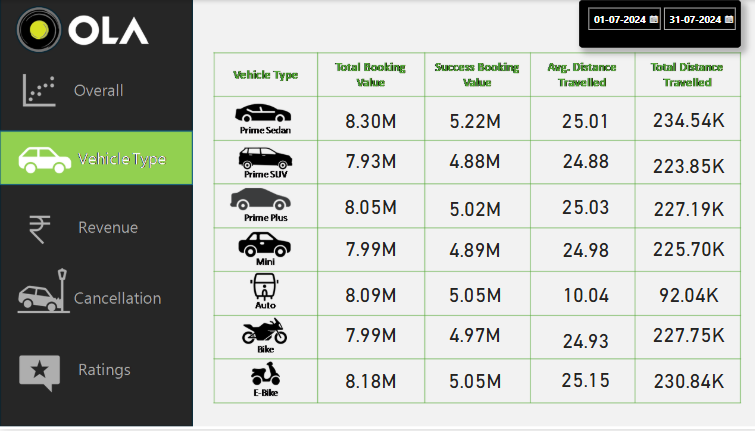

This screenshot's page, from the dashboard's own definition file:
{"tool":"powerbi","page":{"name":"Service Type","canvas":[1280,720],"ordinal":1},"visuals":[{"type":"actionButton","box":[0,108,325.4,90.7],"z":0},{"type":"actionButton","box":[0,335.5,325.4,93.6],"z":1000},{"type":"actionButton","box":[0,447.8,325.4,93.6],"z":2000},{"type":"actionButton","box":[0,576,325.4,93.6],"z":3000},{"type":"card","fields":{"Values":["Sum(July.Booking_Value)"]},"box":[536.2,166.7,173.9,66.7],"z":4000},{"type":"card","fields":{"Values":["Sum(July.Booking_Value)"]},"box":[536.2,233.3,173.9,66.7],"z":5000},{"type":"card","fields":{"Values":["Sum(July.Booking_Value)"]},"box":[536.2,381.2,173.9,66.7],"z":6000},{"type":"card","fields":{"Values":["Sum(July.Booking_Value)"]},"box":[536.2,459.4,173.9,66.7],"z":7000},{"type":"card","fields":{"Values":["Sum(July.Booking_Value)"]},"box":[536.2,526.1,173.9,66.7],"z":8000},{"type":"card","fields":{"Values":["Sum(July.Booking_Value)"]},"box":[536.2,602.9,173.9,66.7],"z":9000},{"type":"card","fields":{"Values":["Sum(July.Booking_Value)"]},"box":[536.2,310.1,173.9,66.7],"z":10000},{"type":"card","fields":{"Values":["Sum(July.Booking_Value)"]},"box":[710.1,166.7,173.9,66.7],"z":11000},{"type":"card","fields":{"Values":["Sum(July.Booking_Value)"]},"box":[710.1,233.3,173.9,66.7],"z":12000},{"type":"card","fields":{"Values":["Sum(July.Booking_Value)"]},"box":[710.1,314.5,173.9,66.7],"z":13000},{"type":"card","fields":{"Values":["Sum(July.Booking_Value)"]},"box":[710.1,382.6,173.9,66.7],"z":14000},{"type":"card","fields":{"Values":["Sum(July.Booking_Value)"]},"box":[710.1,459.4,173.9,66.7],"z":15000},{"type":"card","fields":{"Values":["Sum(July.Booking_Value)"]},"box":[710.1,526.1,173.9,66.7],"z":16000},{"type":"card","fields":{"Values":["Sum(July.Booking_Value)"]},"box":[709.8,604.9,173.8,65.6],"z":17000},{"type":"card","fields":{"Values":["Avg(July.Ride_Distance)"]},"box":[897.1,166.7,173.9,66.7],"z":18000},{"type":"card","fields":{"Values":["Avg(July.Ride_Distance)"]},"box":[897.1,233.3,173.9,66.7],"z":19000},{"type":"card","fields":{"Values":["Avg(July.Ride_Distance)"]},"box":[897.1,310.1,173.9,66.7],"z":20000},{"type":"card","fields":{"Values":["Avg(July.Ride_Distance)"]},"box":[897.1,382.6,173.9,66.7],"z":21000},{"type":"card","fields":{"Values":["Avg(July.Ride_Distance)"]},"box":[897.1,459.4,173.9,66.7],"z":22000},{"type":"card","fields":{"Values":["Avg(July.Ride_Distance)"]},"box":[896.7,536.1,173.8,67.2],"z":23000},{"type":"card","fields":{"Values":["Avg(July.Ride_Distance)"]},"box":[896.7,603.3,173.8,65.6],"z":24000},{"type":"card","fields":{"Values":["Sum(July.Ride_Distance)"]},"box":[1070.5,165.6,173.8,65.6],"z":25000},{"type":"card","fields":{"Values":["Sum(July.Ride_Distance)"]},"box":[1070.5,242.6,173.8,67.2],"z":26000},{"type":"card","fields":{"Values":["Sum(July.Ride_Distance)"]},"box":[1070.5,314.8,173.8,67.2],"z":27000},{"type":"card","fields":{"Values":["Sum(July.Ride_Distance)"]},"box":[1070.5,382,173.8,67.2],"z":28000},{"type":"card","fields":{"Values":["Sum(July.Ride_Distance)"]},"box":[1070.5,459,173.8,67.2],"z":29000},{"type":"card","fields":{"Values":["Sum(July.Ride_Distance)"]},"box":[1070.5,526.2,173.8,67.2],"z":30000},{"type":"card","fields":{"Values":["Sum(July.Ride_Distance)"]},"box":[1070.5,604.9,173.8,65.6],"z":31000},{"type":"slicer","title":"DATE","fields":{"Values":["July.Date"]},"box":[972.3,0,272.3,80],"z":32000}]}

Visuals, with their boxes on the page's 1280x720 design canvas (x1, y1, x2, y2). These are canvas units, not pixel positions in the 755x431 screenshot, which may show the page scaled, cropped or inside an application window:
actionButton: Rect(0, 108, 325, 199)
actionButton: Rect(0, 336, 325, 429)
actionButton: Rect(0, 448, 325, 541)
actionButton: Rect(0, 576, 325, 670)
card - Sum(July.Booking_Value): Rect(536, 167, 710, 233)
card - Sum(July.Booking_Value): Rect(536, 233, 710, 300)
card - Sum(July.Booking_Value): Rect(536, 381, 710, 448)
card - Sum(July.Booking_Value): Rect(536, 459, 710, 526)
card - Sum(July.Booking_Value): Rect(536, 526, 710, 593)
card - Sum(July.Booking_Value): Rect(536, 603, 710, 670)
card - Sum(July.Booking_Value): Rect(536, 310, 710, 377)
card - Sum(July.Booking_Value): Rect(710, 167, 884, 233)
card - Sum(July.Booking_Value): Rect(710, 233, 884, 300)
card - Sum(July.Booking_Value): Rect(710, 314, 884, 381)
card - Sum(July.Booking_Value): Rect(710, 383, 884, 449)
card - Sum(July.Booking_Value): Rect(710, 459, 884, 526)
card - Sum(July.Booking_Value): Rect(710, 526, 884, 593)
card - Sum(July.Booking_Value): Rect(710, 605, 884, 670)
card - Avg(July.Ride_Distance): Rect(897, 167, 1071, 233)
card - Avg(July.Ride_Distance): Rect(897, 233, 1071, 300)
card - Avg(July.Ride_Distance): Rect(897, 310, 1071, 377)
card - Avg(July.Ride_Distance): Rect(897, 383, 1071, 449)
card - Avg(July.Ride_Distance): Rect(897, 459, 1071, 526)
card - Avg(July.Ride_Distance): Rect(897, 536, 1070, 603)
card - Avg(July.Ride_Distance): Rect(897, 603, 1070, 669)
card - Sum(July.Ride_Distance): Rect(1070, 166, 1244, 231)
card - Sum(July.Ride_Distance): Rect(1070, 243, 1244, 310)
card - Sum(July.Ride_Distance): Rect(1070, 315, 1244, 382)
card - Sum(July.Ride_Distance): Rect(1070, 382, 1244, 449)
card - Sum(July.Ride_Distance): Rect(1070, 459, 1244, 526)
card - Sum(July.Ride_Distance): Rect(1070, 526, 1244, 593)
card - Sum(July.Ride_Distance): Rect(1070, 605, 1244, 670)
"DATE" slicer: Rect(972, 0, 1245, 80)
